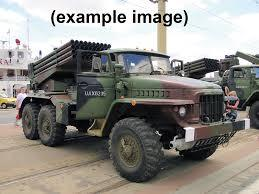MIL_SAM_TEL: (21, 37, 236, 176), (174, 57, 259, 130)
